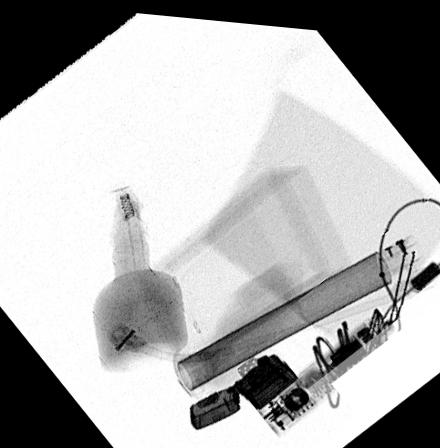Lighter: (188, 347, 298, 427)
